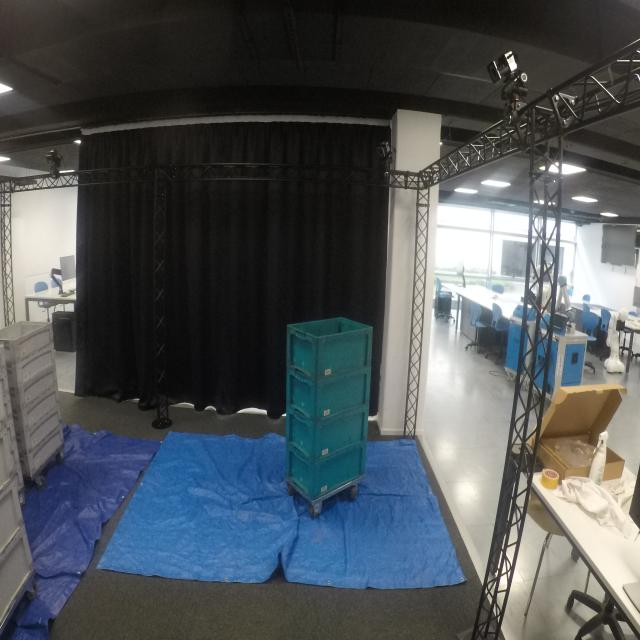BoxB4: (281, 312, 377, 374), (289, 370, 375, 415), (287, 448, 370, 491), (286, 412, 371, 449)
